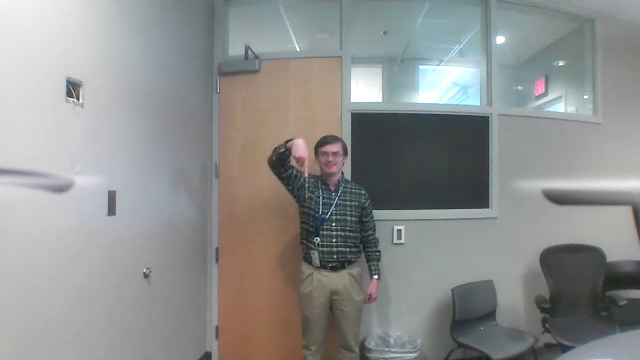down: (285, 134, 312, 182)
